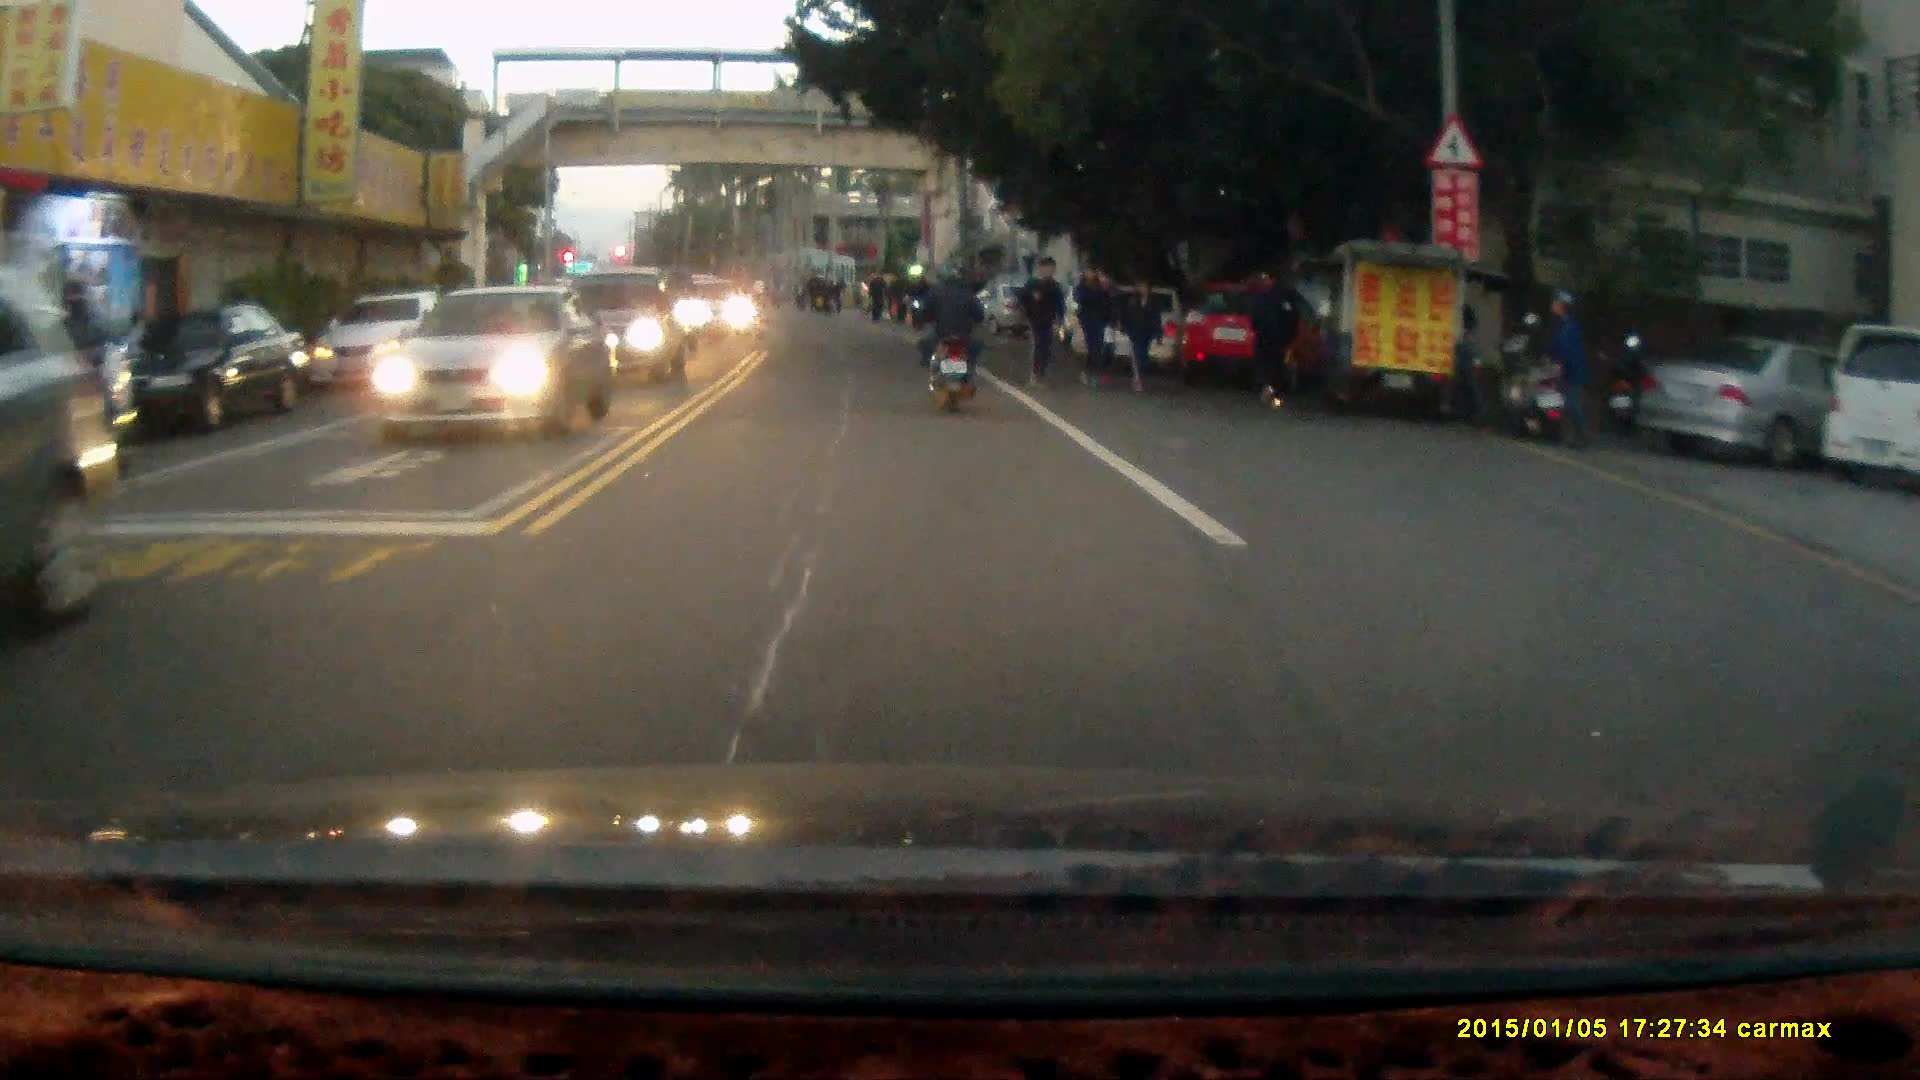pedestrian: (1242, 263, 1301, 414), (1538, 280, 1592, 442), (1016, 256, 1069, 393), (1122, 273, 1167, 398), (1072, 260, 1109, 391)
rider: (911, 259, 990, 419)
vehicle: (1643, 330, 1920, 468), (375, 286, 614, 438), (1177, 282, 1330, 390), (566, 266, 691, 386), (678, 279, 754, 340)
